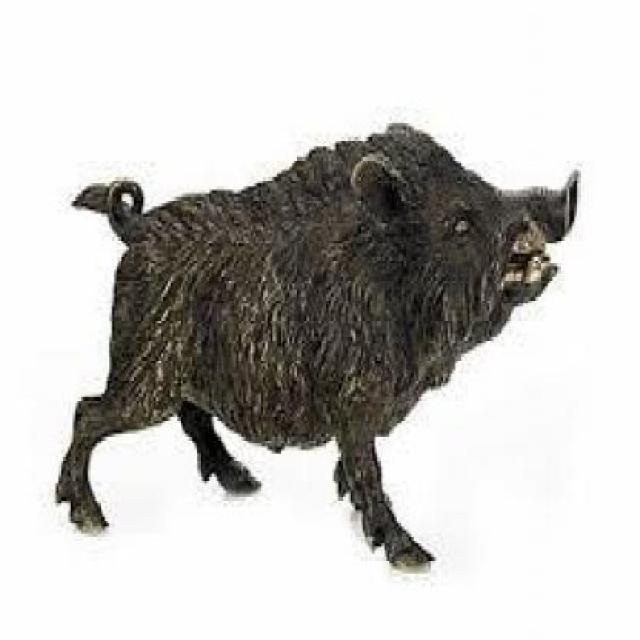wildboar: (49, 119, 585, 576)
